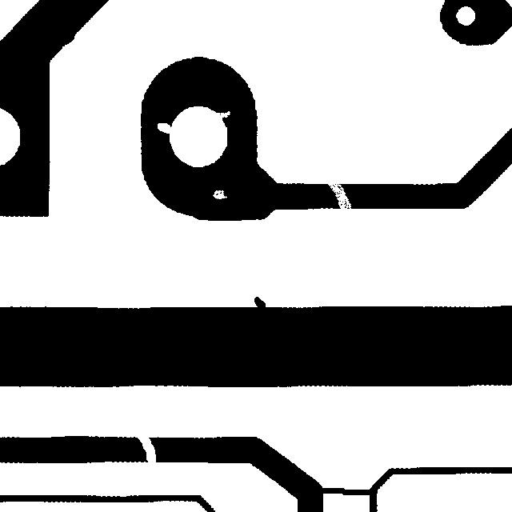mousebite: (150, 115, 179, 141), (209, 103, 238, 126)
open: (319, 173, 358, 218), (130, 426, 163, 470)
pin-hole: (205, 182, 234, 206)
short: (308, 480, 384, 502)
spur: (246, 289, 273, 318)
